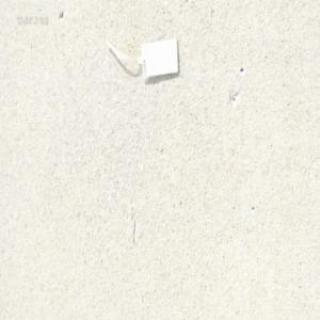LuggageTagtrack_idkeyframe: (103, 33, 180, 83)
